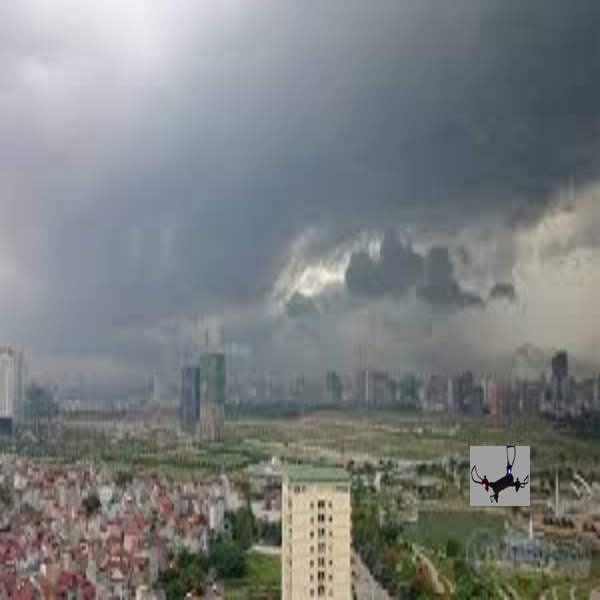drone: (470, 442, 530, 505)
